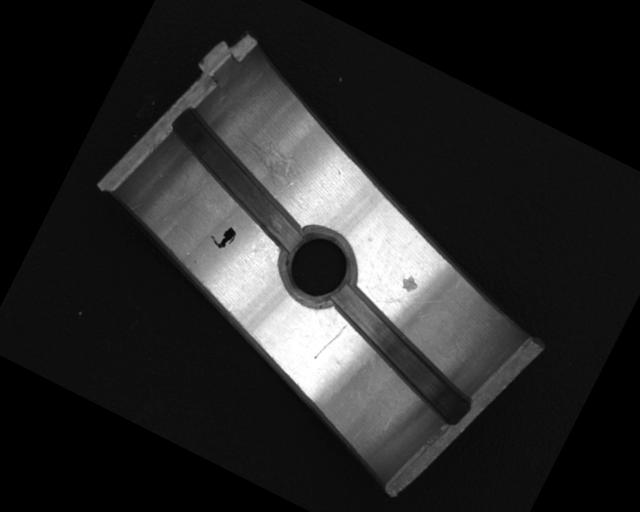blot: (205, 218, 239, 253)
bruise: (396, 270, 421, 295)
gap: (146, 104, 331, 253)
hole: (305, 278, 494, 427), (266, 220, 364, 317)
nick: (312, 316, 349, 366)
scratch: (217, 128, 321, 212)
